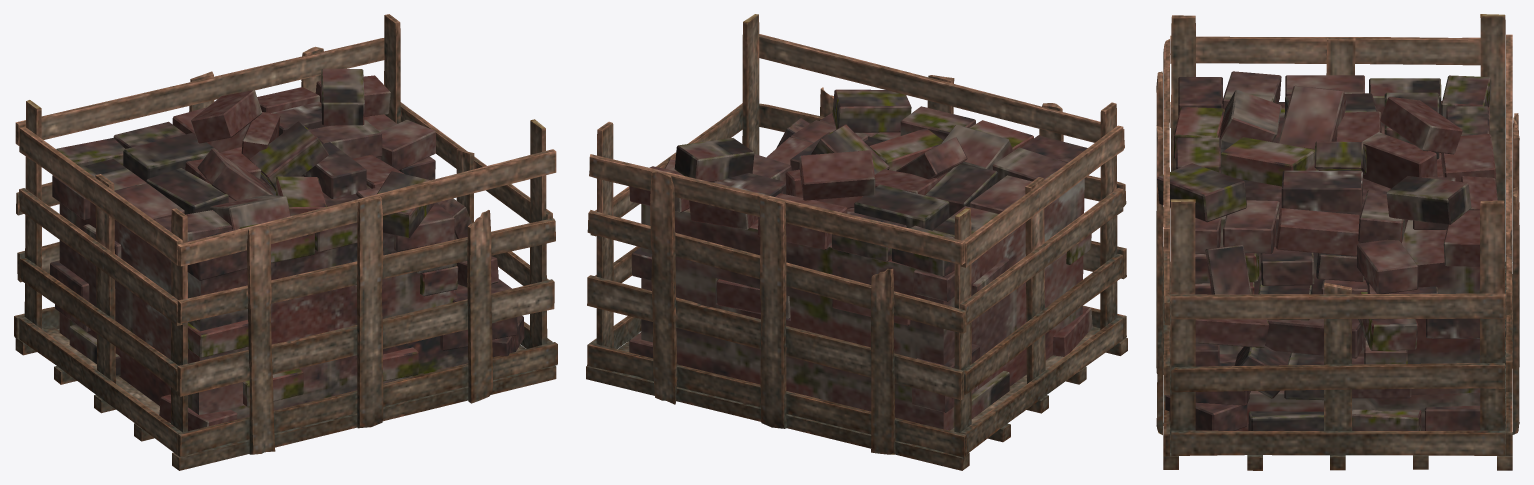
The model's file is SM_Crate07.fbx.
3 renders of one model, left to right at view 1: azimuth 30°, elevation 25°; view 2: azimuth 150°, elevation 25°; view 3: azimuth 270°, elevation 25°, orthographic. The views are drawn at different scales.
Visible parts, largest first — view 1: SM_Crate05.mo; view 2: SM_Crate05.mo; view 3: SM_Crate05.mo.
Boxes of the visible parts, box(x1,y1,x2,y2) form: SM_Crate05.mo: box(14, 14, 557, 470); SM_Crate05.mo: box(586, 14, 1127, 470); SM_Crate05.mo: box(1156, 14, 1519, 470).
Size of the model in its own units: 202 by 128 by 158.
